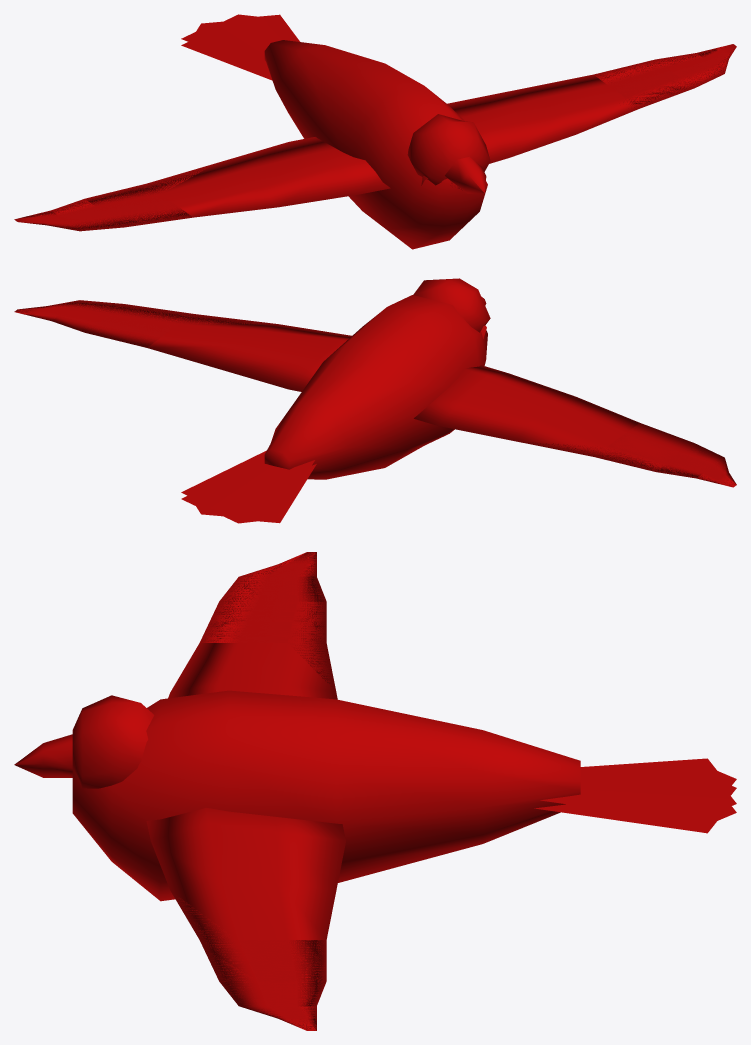
File: jay.glb
3 renders of one model, top to bottom at view 1: azimuth 30°, elevation 25°; view 2: azimuth 150°, elevation 25°; view 3: azimuth 270°, elevation 25°, orthographic. The views are drawn at different scales.
Parts seen in each view (by area): view 1: body, wing; view 2: body, wing; view 3: body, wing.
Part boxes in pixels (box(x1,y1,x2,y2)): body: box(181, 14, 490, 249); wing: box(14, 44, 736, 231); body: box(181, 278, 490, 523); wing: box(14, 300, 736, 487); body: box(14, 690, 736, 901); wing: box(146, 552, 345, 1030).
Size of the model in its own units: 0.4531 by 0.082 by 0.2891.
